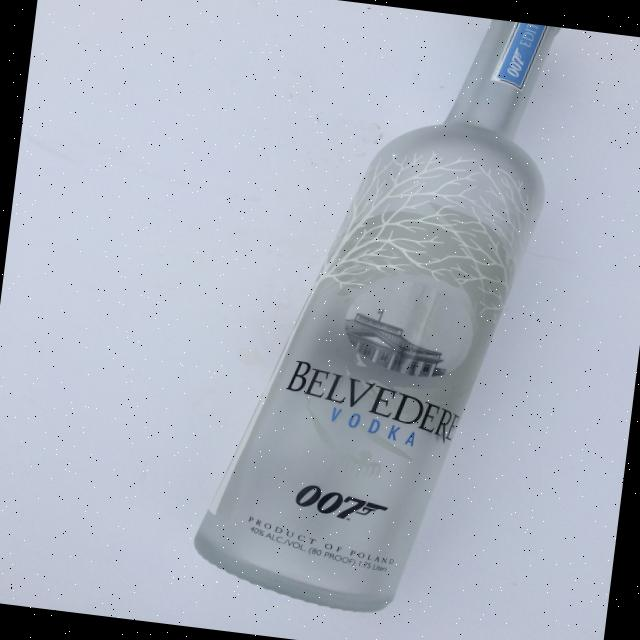glass: (186, 0, 565, 629)
